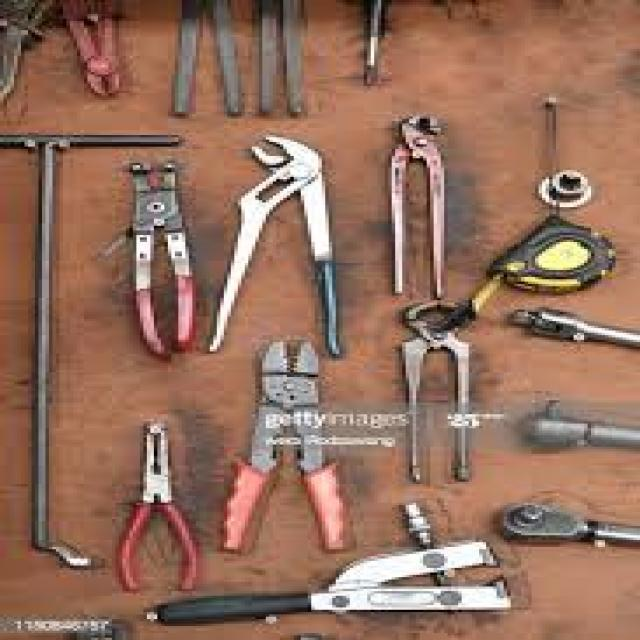pliers: (210, 128, 360, 356), (214, 334, 360, 560), (102, 154, 208, 366), (388, 298, 490, 489), (100, 416, 208, 596), (377, 105, 460, 303)
